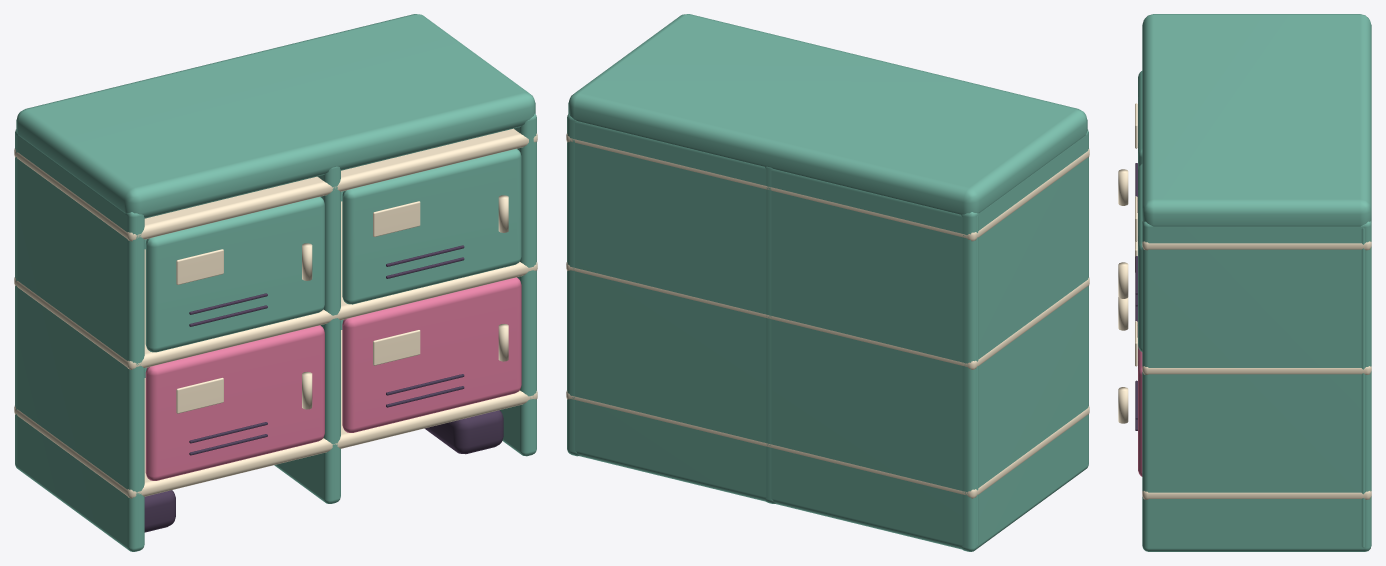
The model's file is 4_slot_locker.fbx.
3 renders of one model, left to right at view 1: azimuth 30°, elevation 25°; view 2: azimuth 150°, elevation 25°; view 3: azimuth 270°, elevation 25°, orthographic. The views are drawn at different scales.
Parts seen in each view (by area): view 1: Toon_4_slot_locker Rounded locker crown.001, Toon_4_slot_locker Locker upright.003, Toon_4_slot_locker_DOOR_4_ Compartment door.001, Toon_4_slot_locker_DOOR_2_ Compartment door.001, Toon_4_slot_locker_DOOR_3_ Compartment door.001, Toon_4_slot_locker_DOOR_1_ Compartment door.001, Toon_4_slot_locker Compartment shelf.005, Toon_4_slot_locker Compartment shelf.003, Toon_4_slot_locker Compartment shelf.004, Toon_4_slot_locker Locker upright.004, Toon_4_slot_locker Locker upright.005, Toon_4_slot_locker Locker foot.003 (+6 smaller); view 2: Toon_4_slot_locker Locker rear.001, Toon_4_slot_locker Rounded locker crown.001, Toon_4_slot_locker Locker upright.003, Toon_4_slot_locker Locker upright.005, Toon_4_slot_locker Compartment shelf.003, Toon_4_slot_locker Compartment shelf.004, Toon_4_slot_locker Compartment shelf.005, Toon_4_slot_locker Locker upright.004; view 3: Toon_4_slot_locker Locker upright.005, Toon_4_slot_locker Rounded locker crown.001, Toon_4_slot_locker Compartment shelf.003, Toon_4_slot_locker Compartment shelf.005, Toon_4_slot_locker Compartment shelf.004, Toon_4_slot_locker Locker rear.001, Toon_4_slot_locker_DOOR_4_ Compartment door.001, Toon_4_slot_locker_DOOR_2_ Compartment door.001, Toon_4_slot_locker_DOOR_3_ Compartment door.001, Toon_4_slot_locker_DOOR_2_ Door handle.001, Toon_4_slot_locker_DOOR_3_ Door handle.001, Toon_4_slot_locker_DOOR_4_ Door handle.001 (+1 smaller).
Part boxes in pixels (x1,y1,x2,y2): Toon_4_slot_locker Rounded locker crown.001: [16, 14, 535, 218]; Toon_4_slot_locker Locker upright.003: [15, 129, 144, 551]; Toon_4_slot_locker_DOOR_4_ Compartment door.001: [342, 149, 521, 304]; Toon_4_slot_locker_DOOR_2_ Compartment door.001: [342, 277, 521, 432]; Toon_4_slot_locker_DOOR_3_ Compartment door.001: [145, 197, 324, 352]; Toon_4_slot_locker_DOOR_1_ Compartment door.001: [145, 325, 324, 480]; Toon_4_slot_locker Compartment shelf.005: [14, 128, 537, 241]; Toon_4_slot_locker Compartment shelf.003: [14, 330, 537, 498]; Toon_4_slot_locker Compartment shelf.004: [14, 201, 537, 369]; Toon_4_slot_locker Locker upright.004: [274, 166, 340, 503]; Toon_4_slot_locker Locker upright.005: [500, 113, 536, 456]; Toon_4_slot_locker Locker foot.003: [424, 410, 503, 454]; Toon_4_slot_locker Locker rear.001: [575, 121, 978, 549]; Toon_4_slot_locker Rounded locker crown.001: [568, 14, 1087, 214]; Toon_4_slot_locker Locker upright.003: [961, 129, 1088, 551]; Toon_4_slot_locker Locker upright.005: [567, 113, 579, 456]; Toon_4_slot_locker Compartment shelf.003: [566, 391, 1089, 498]; Toon_4_slot_locker Compartment shelf.004: [566, 262, 1089, 369]; Toon_4_slot_locker Compartment shelf.005: [566, 133, 1089, 241]; Toon_4_slot_locker Locker upright.004: [765, 166, 775, 503]; Toon_4_slot_locker Locker upright.005: [1142, 221, 1371, 551]; Toon_4_slot_locker Rounded locker crown.001: [1142, 14, 1371, 226]; Toon_4_slot_locker Compartment shelf.003: [1142, 491, 1371, 499]; Toon_4_slot_locker Compartment shelf.005: [1142, 241, 1371, 250]; Toon_4_slot_locker Compartment shelf.004: [1142, 366, 1371, 374]; Toon_4_slot_locker Locker rear.001: [1361, 220, 1371, 547]; Toon_4_slot_locker_DOOR_4_ Compartment door.001: [1138, 164, 1142, 351]; Toon_4_slot_locker_DOOR_2_ Compartment door.001: [1138, 346, 1142, 476]; Toon_4_slot_locker_DOOR_3_ Compartment door.001: [1138, 71, 1142, 169]; Toon_4_slot_locker_DOOR_2_ Door handle.001: [1118, 387, 1128, 423]; Toon_4_slot_locker_DOOR_3_ Door handle.001: [1118, 169, 1128, 205]; Toon_4_slot_locker_DOOR_4_ Door handle.001: [1118, 262, 1128, 298].
Size of the model in its own units: 100 by 84.25 by 55.2.
